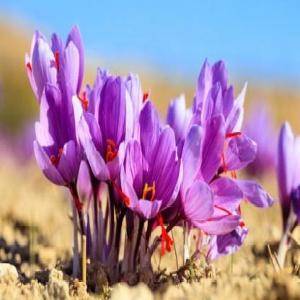Saffron: (174, 114, 239, 238), (82, 82, 143, 210), (122, 114, 177, 228), (20, 23, 89, 110), (34, 90, 86, 197), (277, 120, 297, 225)
